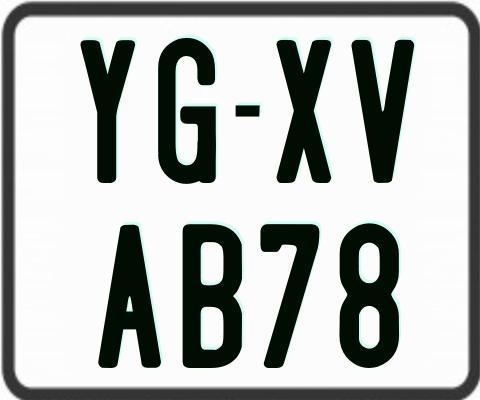7: (257, 222, 321, 371)
8: (338, 223, 403, 372)
A: (98, 223, 163, 366)
B: (181, 222, 240, 368)
G: (158, 36, 221, 186)
V: (351, 40, 413, 189)
X: (277, 37, 336, 180)
Y: (78, 37, 137, 185)
